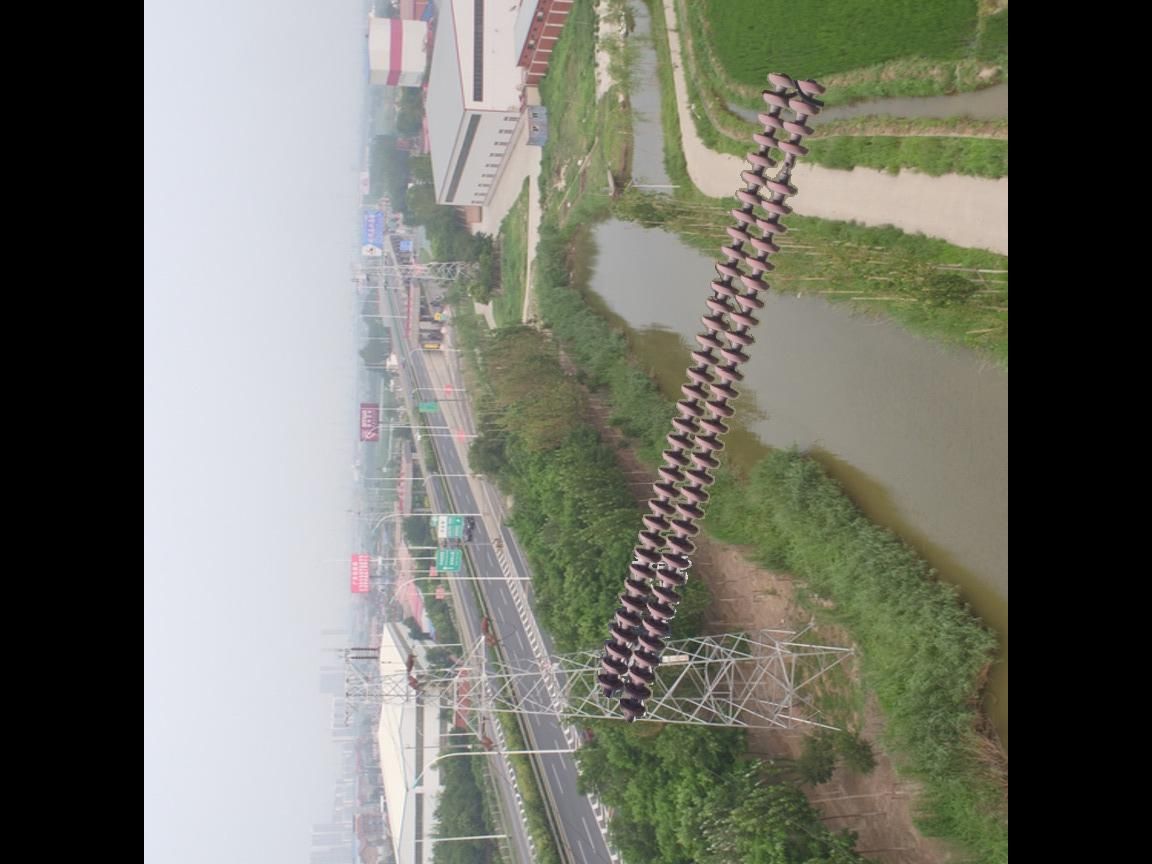insulator: (592, 67, 829, 723)
insulator_stringdrop: (763, 138, 811, 200)
